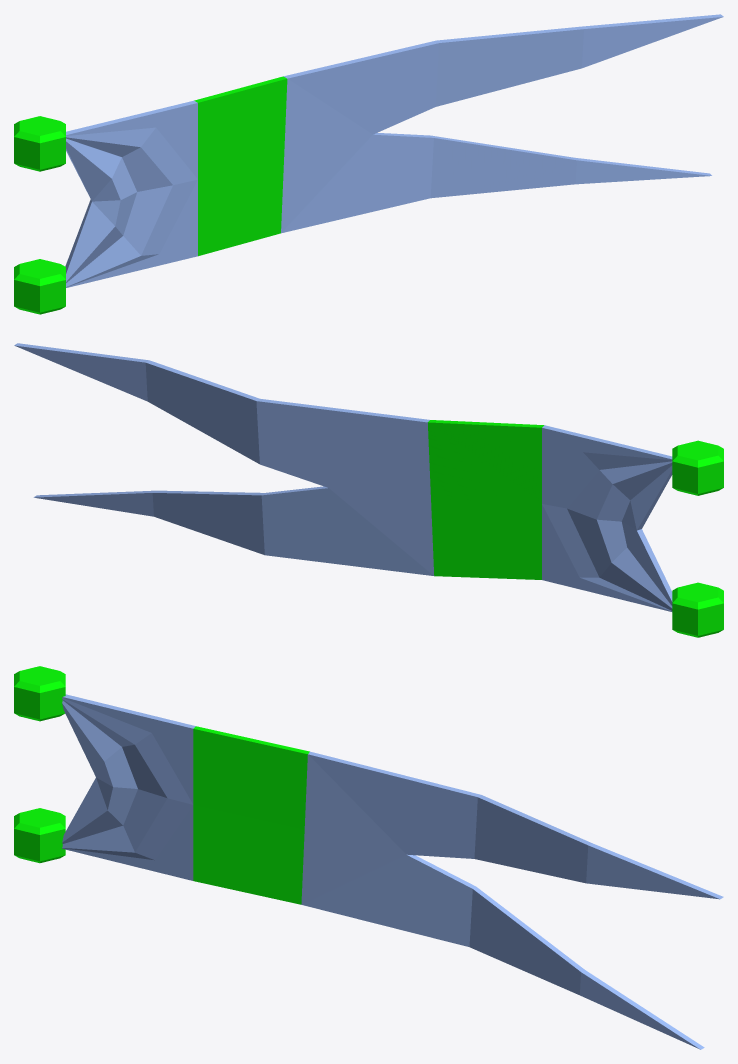
Rendered from SM_Flag_Thin_C_Fantasy.fbx.
3 views of the same model, one above another, from view 1: azimuth 30°, elevation 25°; view 2: azimuth 150°, elevation 25°; view 3: azimuth 330°, elevation 25° (orthographic).
Visible parts, largest first — view 1: flag-thin-c-fantasy; view 2: flag-thin-c-fantasy; view 3: flag-thin-c-fantasy.
Part boxes in pixels (x1,y1,x2,y2): flag-thin-c-fantasy: (14, 14, 723, 314); flag-thin-c-fantasy: (14, 343, 723, 637); flag-thin-c-fantasy: (14, 666, 723, 1049).
Bounding box in the file's own units: 1.22 × 0.3468 × 0.1115.
